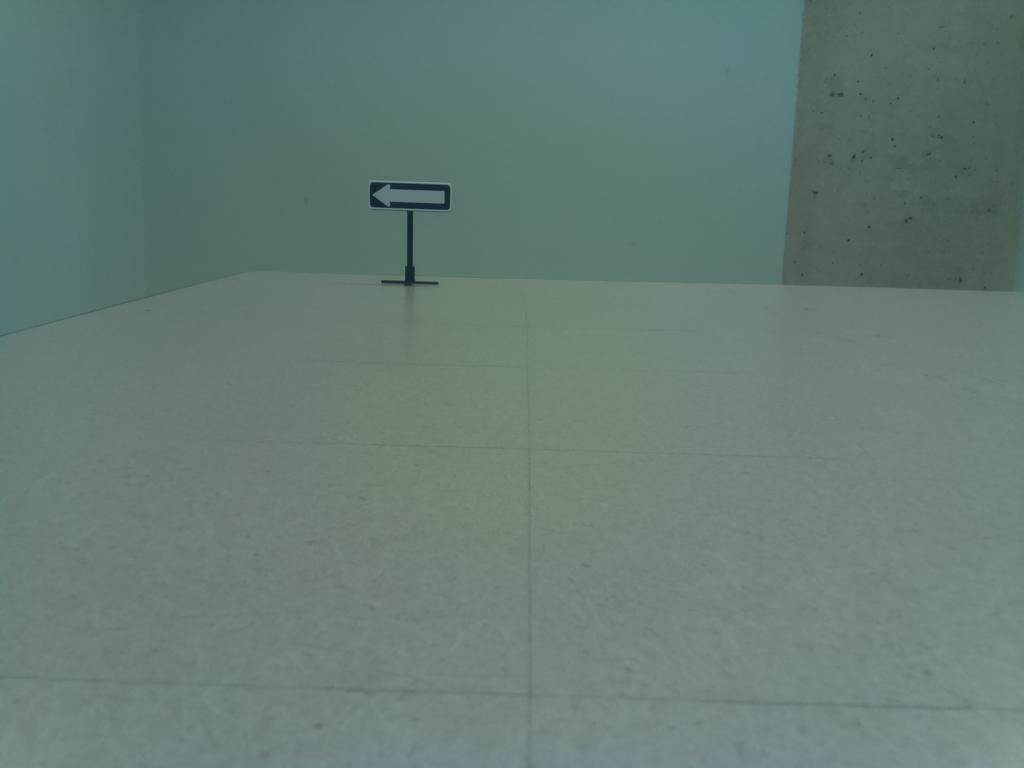sign_oneway_left: (362, 176, 457, 218)
